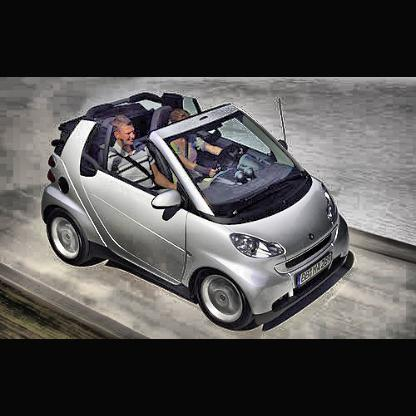smart fortwo Convertible 2012: (43, 92, 349, 331)
